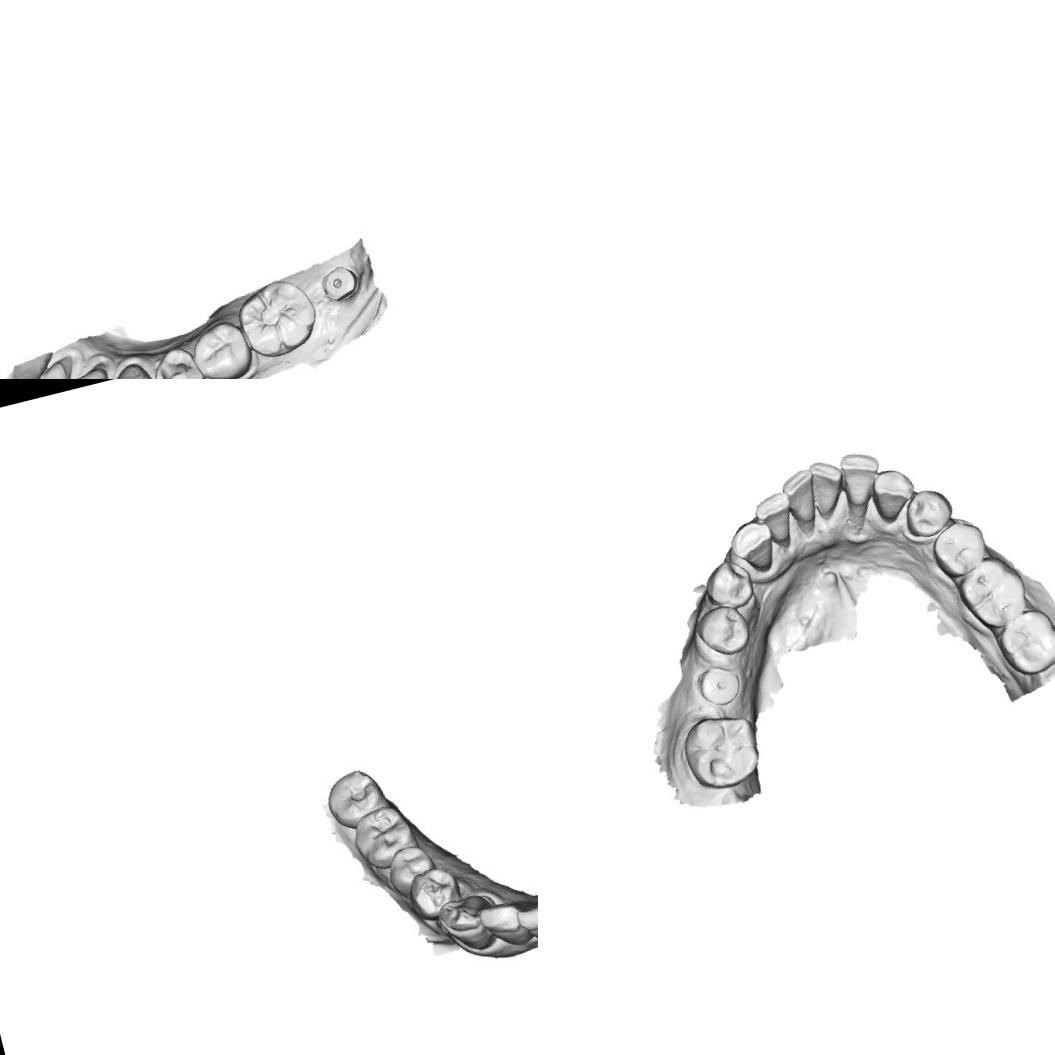canine: (725, 515, 780, 578), (438, 892, 497, 950), (866, 462, 920, 524), (92, 358, 161, 379)
implant: (693, 660, 745, 710), (316, 261, 362, 305)
incisor: (834, 446, 891, 524), (750, 488, 802, 554), (776, 466, 825, 536), (804, 454, 852, 520), (478, 900, 530, 950), (8, 358, 76, 379), (50, 365, 115, 379), (523, 902, 538, 948)
molar: (230, 272, 324, 364), (676, 705, 766, 797), (950, 548, 1034, 636), (990, 601, 1055, 681), (318, 763, 389, 831), (348, 802, 416, 866)
premolar: (925, 514, 992, 584), (185, 316, 256, 379), (690, 600, 754, 662), (402, 863, 463, 927), (699, 554, 757, 614), (898, 484, 958, 542), (382, 840, 434, 896), (145, 341, 213, 379)
